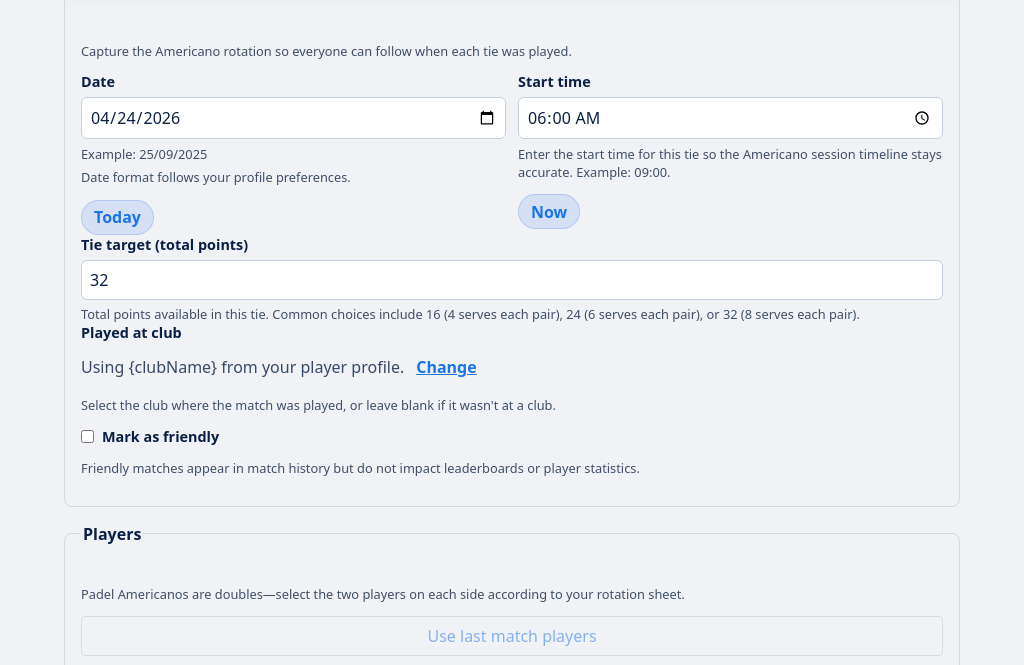
Test: RecordSportForm › prefills the club from the user's profile and hides the location input
(page scrolled)
Expected: the field labelled "location" is not shown
Click the button "Change".
click(446, 367)  # box [416, 356, 477, 378]
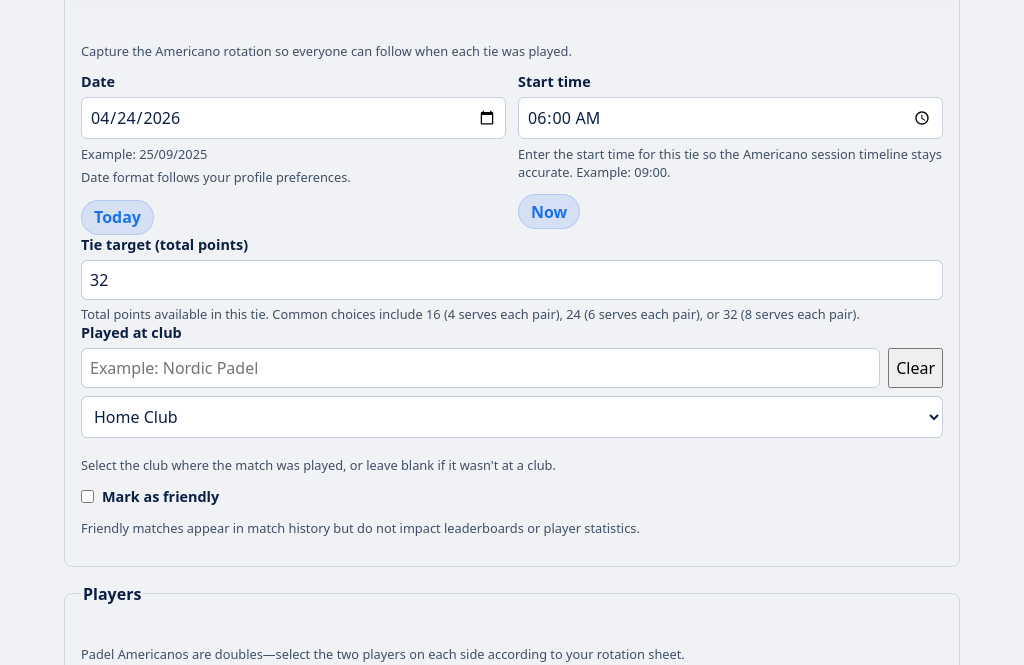
Select "No club selected" in the dropdown labelled "Played at club" at (512, 417), box [81, 396, 943, 438]
(page scrolled)
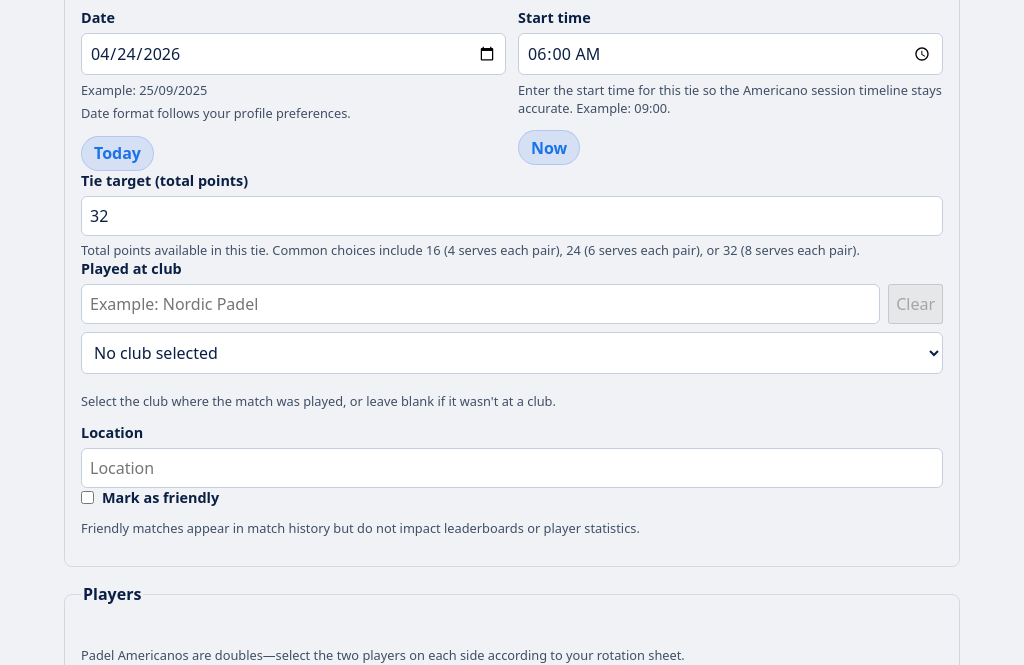
Result: the field labelled "Location" is shown at [81, 448, 943, 488]
